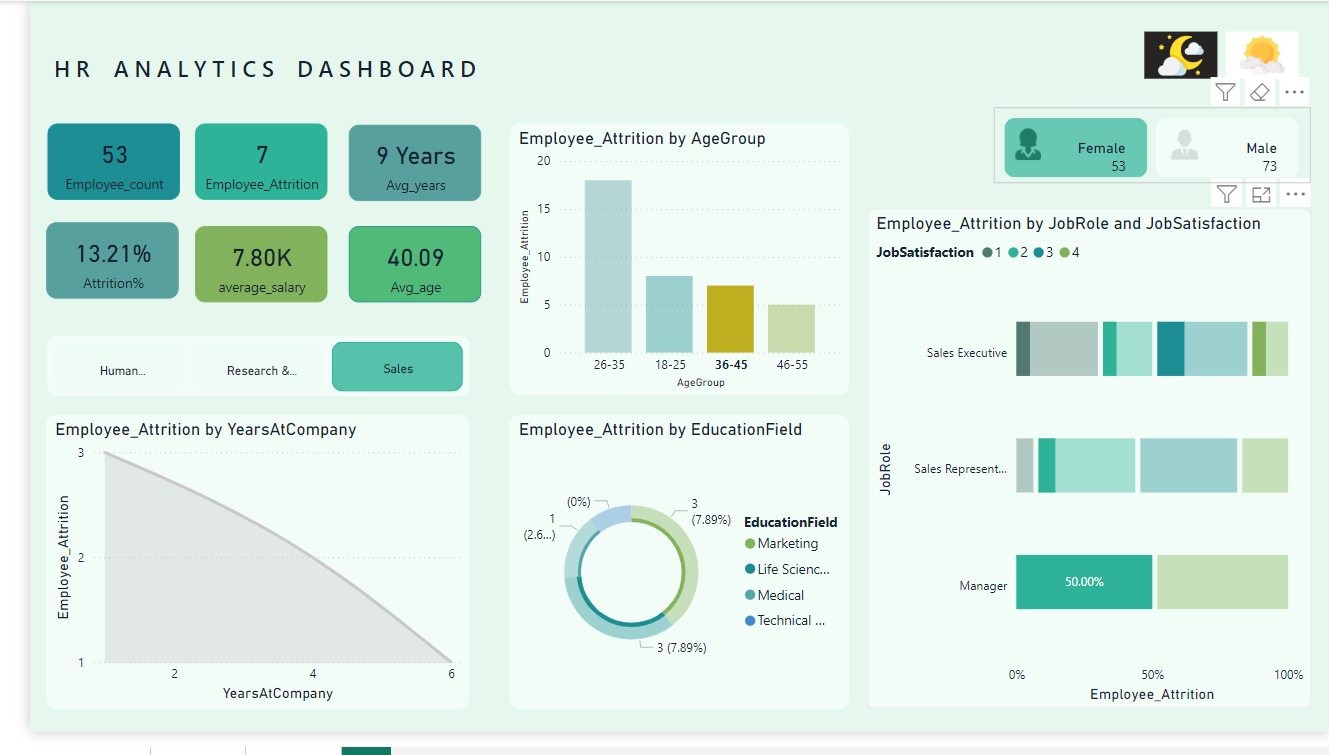

The dashboard page shown, as its layout file describes it:
{"tool":"powerbi","page":{"name":"Page 1","canvas":[1280,720],"ordinal":2},"visuals":[{"type":"image","box":[1125.2,135.8,48,42.5],"z":0},{"type":"card","fields":{"Values":["HR_Analytics.Employee_count"]},"box":[17.8,120.8,130.4,75.5],"z":1000},{"type":"card","fields":{"Values":["HR_Analytics.Avg_years_with_text"]},"box":[314.2,122.1,130.4,75.5],"z":2000},{"type":"card","fields":{"Values":["HR_Analytics.Attrition%"]},"box":[16.5,218.2,130.4,75.5],"z":3000},{"type":"card","fields":{"Values":["HR_Analytics.Avg_age"]},"box":[314.2,220.9,130.4,75.5],"z":4000},{"type":"card","fields":{"Values":["HR_Analytics.average_salary"]},"box":[161.9,220.9,130.4,75.5],"z":5000},{"type":"card","fields":{"Values":["HR_Analytics.Employee_Attrition"]},"box":[161.9,120.8,130.4,75.5],"z":6000},{"type":"areaChart","fields":{"Y":["HR_Analytics.Employee_Attrition"],"Category":["HR_Analytics.YearsAtCompany"]},"box":[16.5,407.5,415.8,289.5],"z":7000},{"type":"donutChart","fields":{"Y":["HR_Analytics.Employee_Attrition"],"Category":["HR_Analytics.EducationField"]},"box":[472,407.5,333.4,289.5],"z":8000},{"type":"clusteredColumnChart","fields":{"Category":["HR_Analytics.AgeGroup"],"Y":["HR_Analytics.Employee_Attrition"]},"box":[472,120.8,333.4,267.6],"z":9000},{"type":"hundredPercentStackedBarChart","fields":{"Y":["HR_Analytics.Employee_Attrition"],"Category":["HR_Analytics.JobRole"],"Series":["HR_Analytics.JobSatisfaction"]},"box":[824.7,204.5,436.4,492.6],"z":10000},{"type":"image","box":[975.6,124.9,45.3,61.7],"z":11000},{"type":"advancedSlicerVisual","fields":{"Values":["HR_Analytics.Gender"]},"box":[953.7,118,307.4,75.5],"z":12000},{"type":"advancedSlicerVisual","fields":{"Values":["HR_Analytics.Department"]},"box":[17.8,329.3,415.8,59],"z":13000},{"type":"textbox","box":[20.5,30.2,506.5,51.9],"z":14000}]}

Visuals, with their boxes in screenshot pixels (x1, y1, x2, y2), scaled from the page's 1280x720 canvas onto the 1329x755 screenshot:
image: (left=1168, top=142, right=1218, bottom=187)
card - HR_Analytics.Employee_count: (left=18, top=127, right=154, bottom=206)
card - HR_Analytics.Avg_years_with_text: (left=326, top=128, right=462, bottom=207)
card - HR_Analytics.Attrition%: (left=17, top=229, right=153, bottom=308)
card - HR_Analytics.Avg_age: (left=326, top=232, right=462, bottom=311)
card - HR_Analytics.average_salary: (left=168, top=232, right=303, bottom=311)
card - HR_Analytics.Employee_Attrition: (left=168, top=127, right=303, bottom=206)
areaChart - HR_Analytics.Employee_Attrition x HR_Analytics.YearsAtCompany: (left=17, top=427, right=449, bottom=731)
donutChart - HR_Analytics.Employee_Attrition x HR_Analytics.EducationField: (left=490, top=427, right=836, bottom=731)
clusteredColumnChart - HR_Analytics.AgeGroup x HR_Analytics.Employee_Attrition: (left=490, top=127, right=836, bottom=407)
hundredPercentStackedBarChart - HR_Analytics.Employee_Attrition x HR_Analytics.JobRole: (left=856, top=214, right=1309, bottom=731)
image: (left=1013, top=131, right=1060, bottom=196)
advancedSlicerVisual - HR_Analytics.Gender: (left=990, top=124, right=1309, bottom=203)
advancedSlicerVisual - HR_Analytics.Department: (left=18, top=345, right=450, bottom=407)
textbox: (left=21, top=32, right=547, bottom=86)
